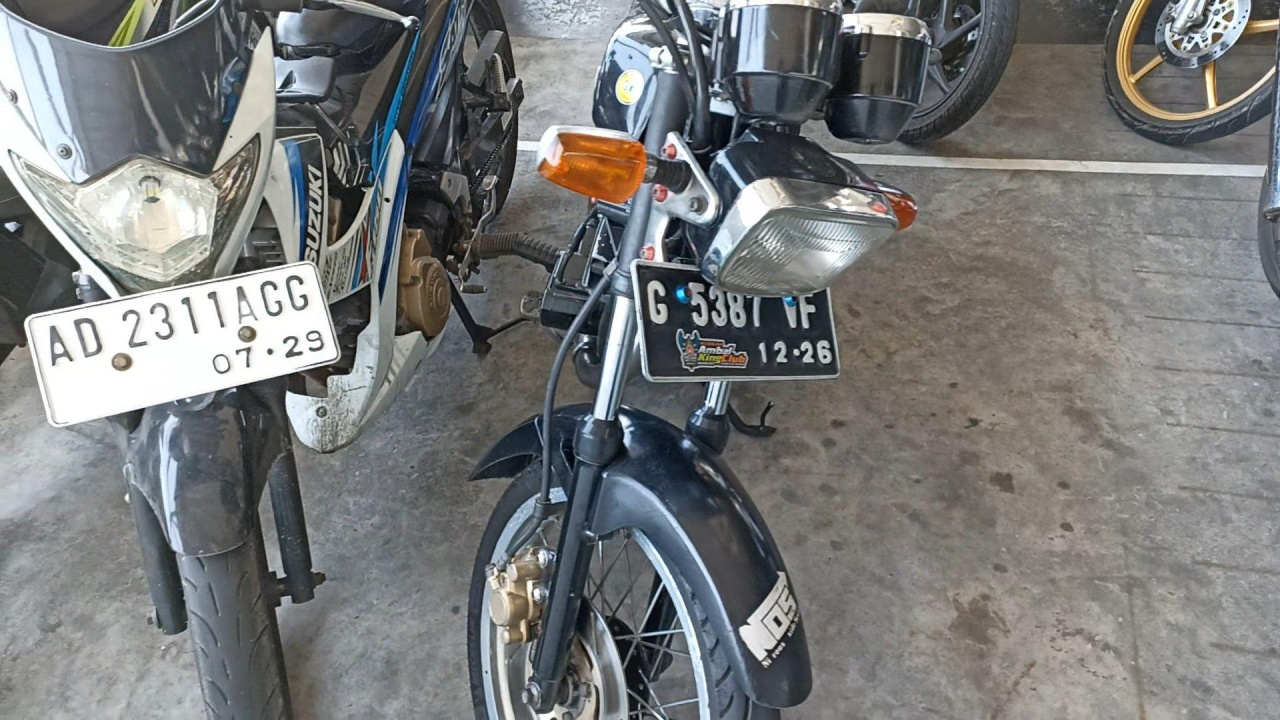plate: (25, 261, 342, 428)
